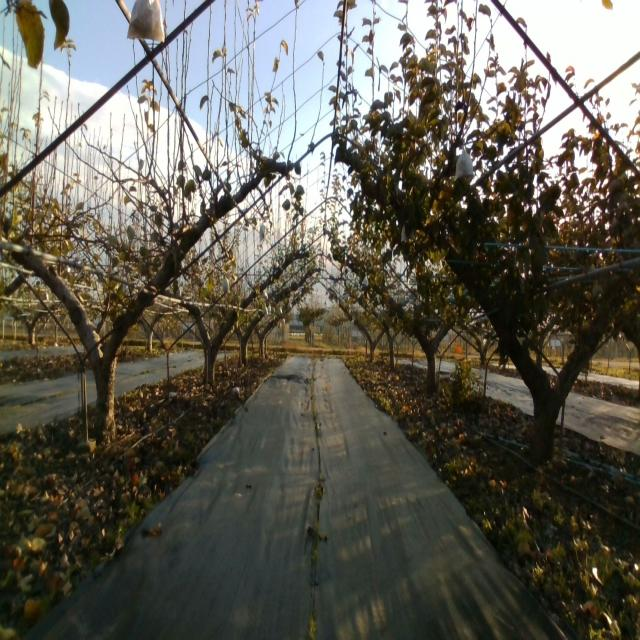pearbags: (126, 0, 165, 43), (453, 152, 476, 181)
